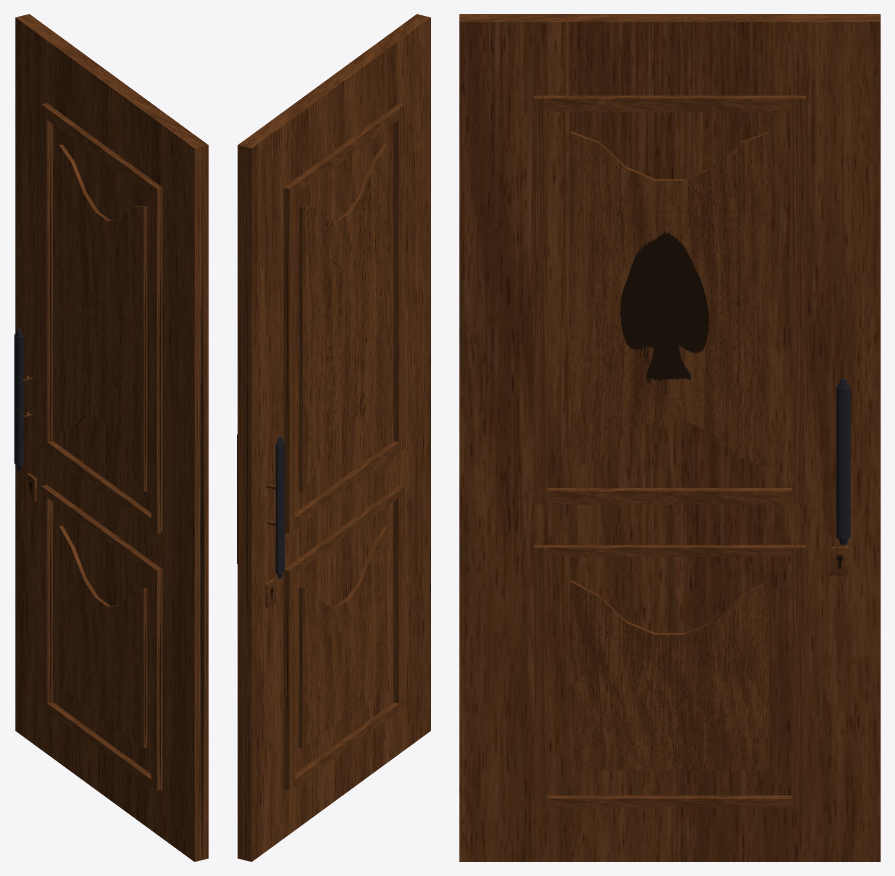
Rendered from Spade Door.fbx.
3 renders of one model, left to right at view 1: azimuth 30°, elevation 25°; view 2: azimuth 150°, elevation 25°; view 3: azimuth 270°, elevation 25°, orthographic. The views are drawn at different scales.
Visible parts, largest first — view 1: Cylinder.016; view 2: Cylinder.016; view 3: Cylinder.016.
Part boxes in pixels (left/top/right/bottom): Cylinder.016: left=14, top=14, right=208, bottom=861; Cylinder.016: left=237, top=14, right=430, bottom=861; Cylinder.016: left=459, top=14, right=880, bottom=861.
Size of the model in its own units: 76.12 by 1148 by 522.
